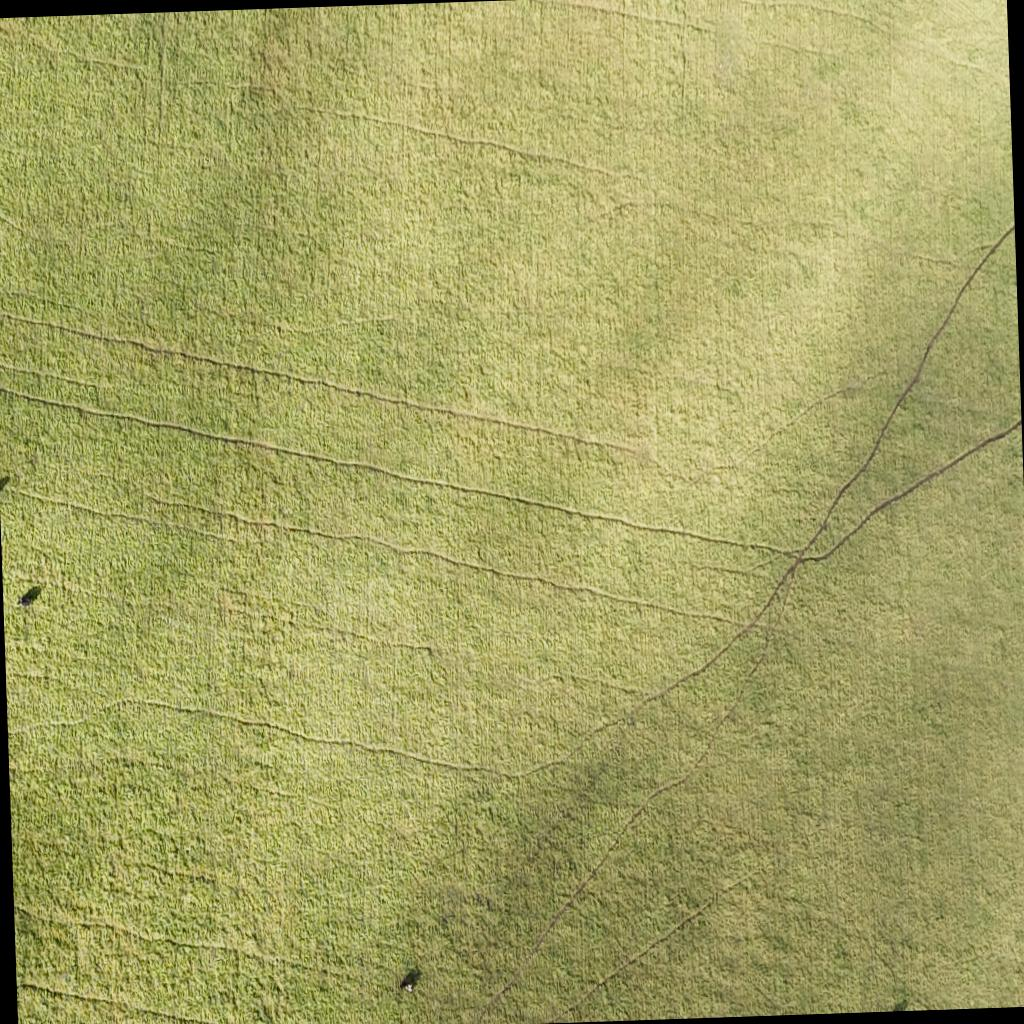cow: (890, 995, 910, 1011), (398, 978, 414, 994), (17, 595, 31, 609)
